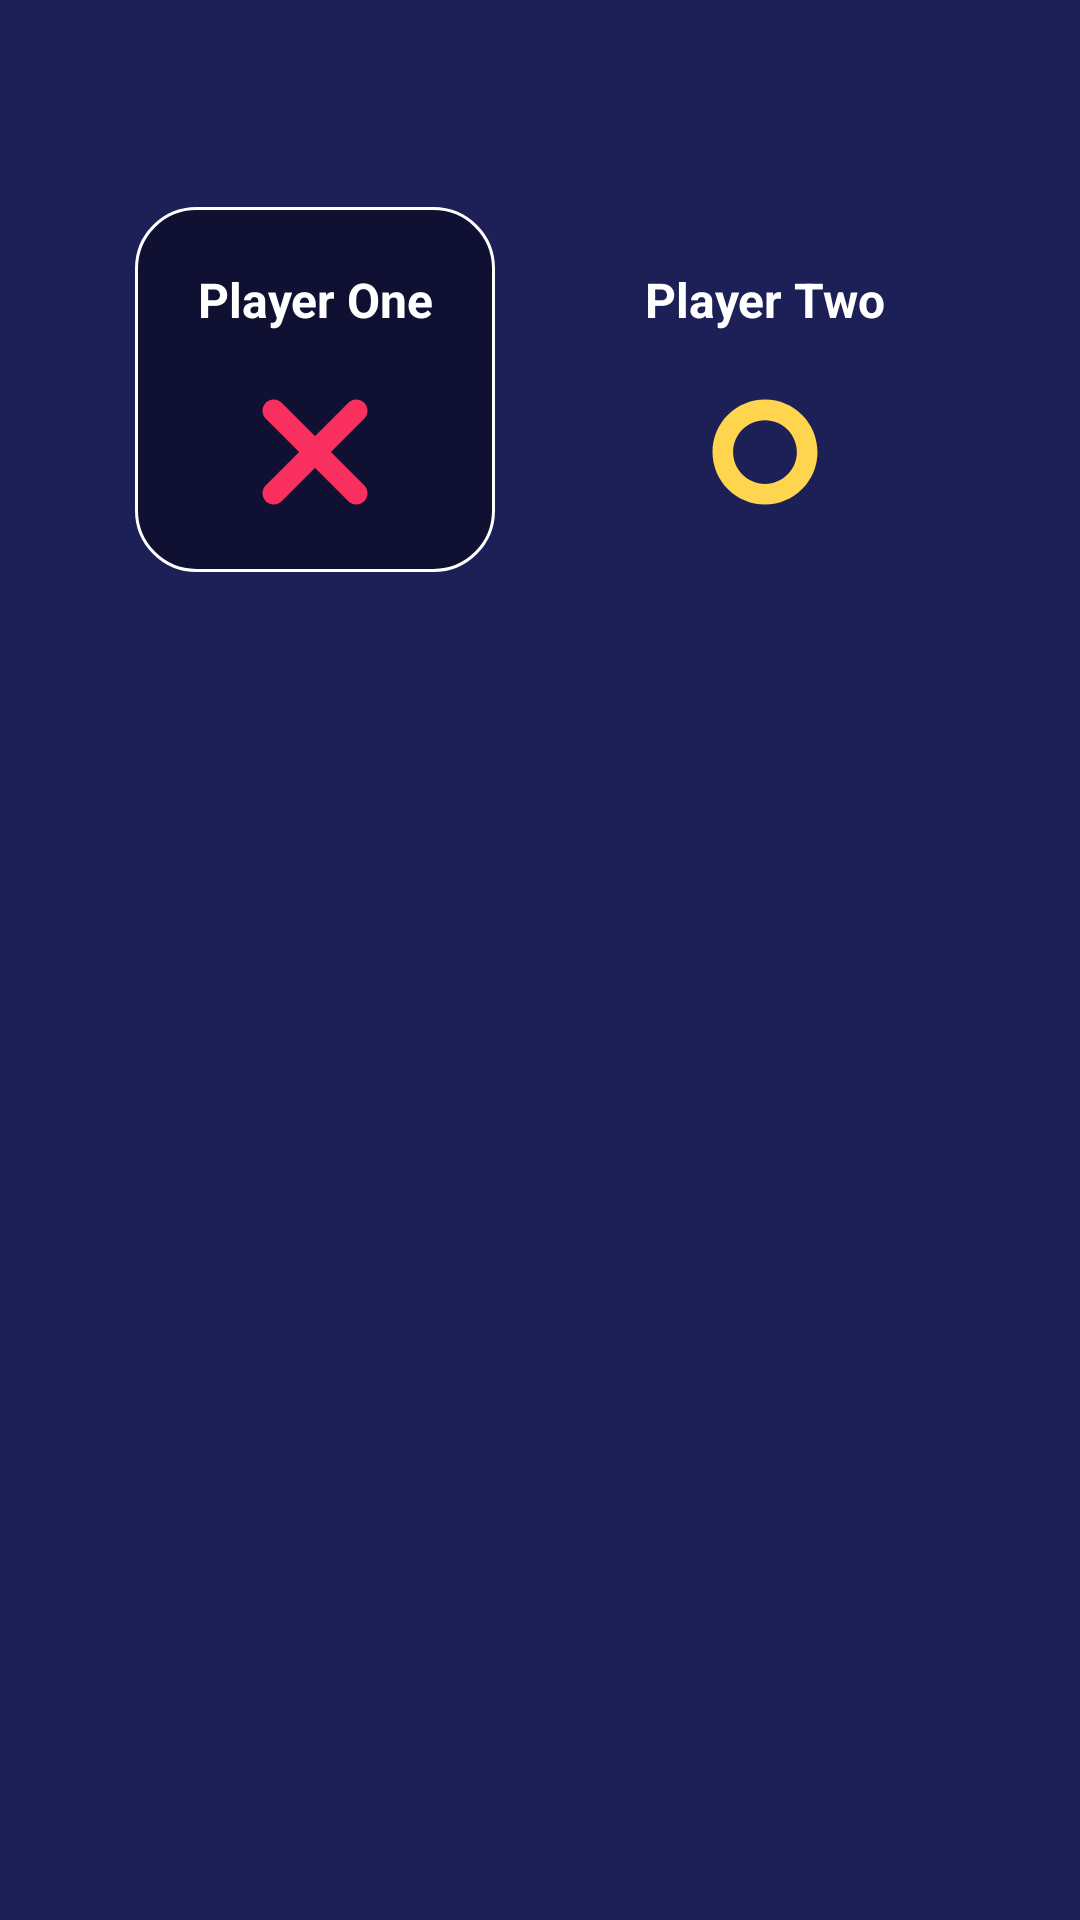

Where icons sit on this 1080x1920 app screen, as (x1, y1, x2, y2):
cross: (262, 399, 368, 505)
zero: (712, 399, 818, 505)
